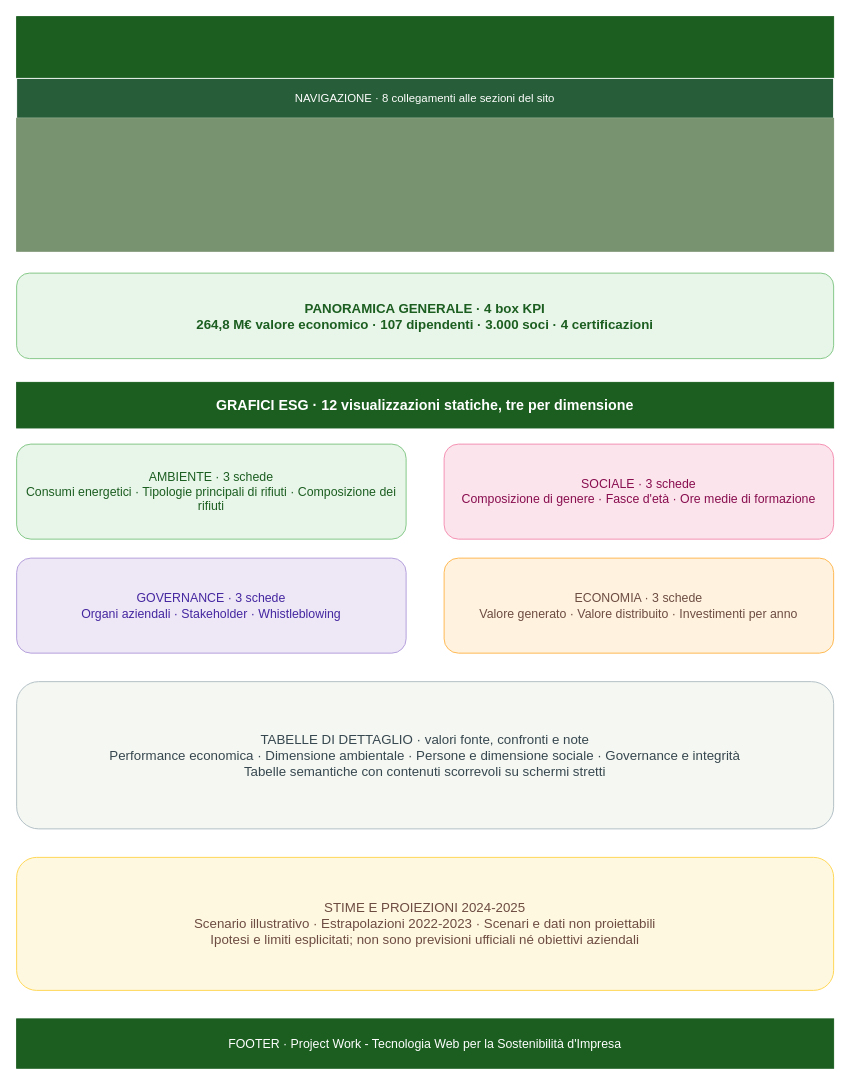
The diagram is 850 pixels wide and 1085 high, and some of its shapes have lost their labels. Here are the shapes that lost their labels. From the top down, the centre of each, then its label:
At (425,47): "HEADER · brand CAI / CAP Nord Ovest · menu responsive".
At (425,184): "HERO · img/cap-kpi.webp KPI ESG · esercizio 2023".
